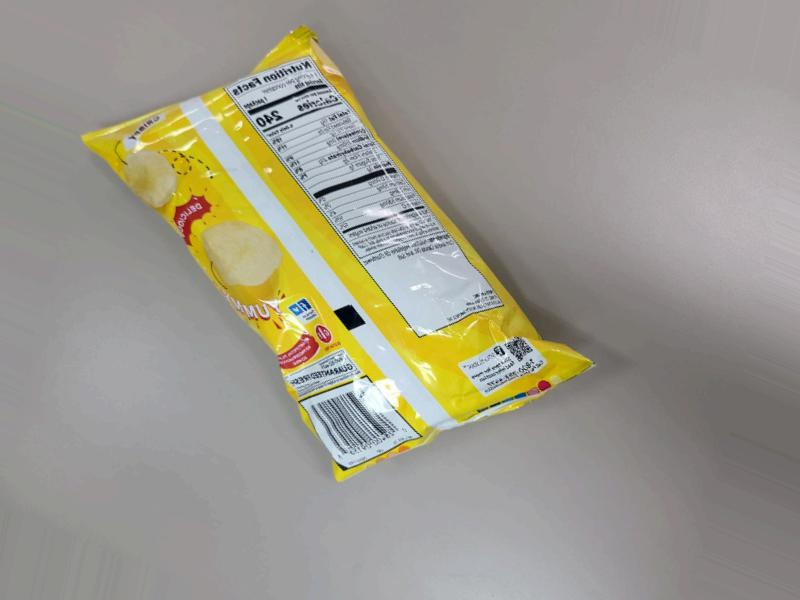lays: (135, 67, 583, 465)
